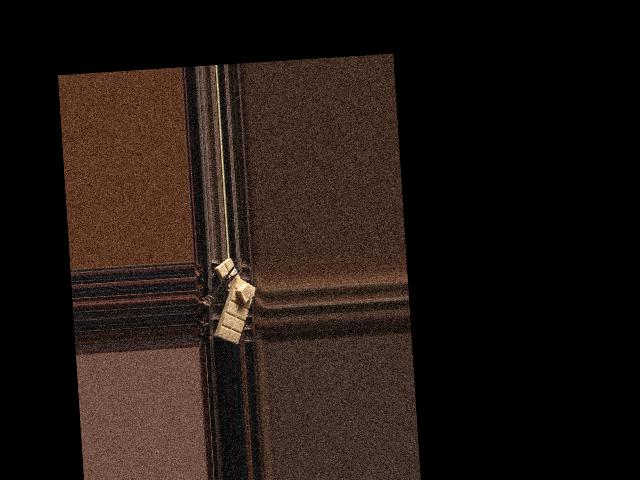chocolate: (211, 274, 258, 344)
